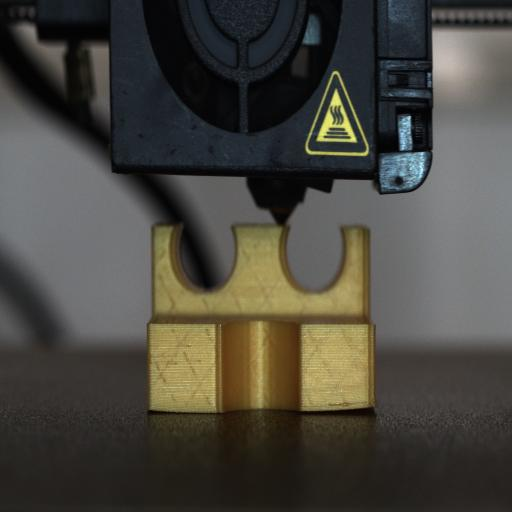warp: (296, 398, 380, 420), (143, 402, 180, 420)
